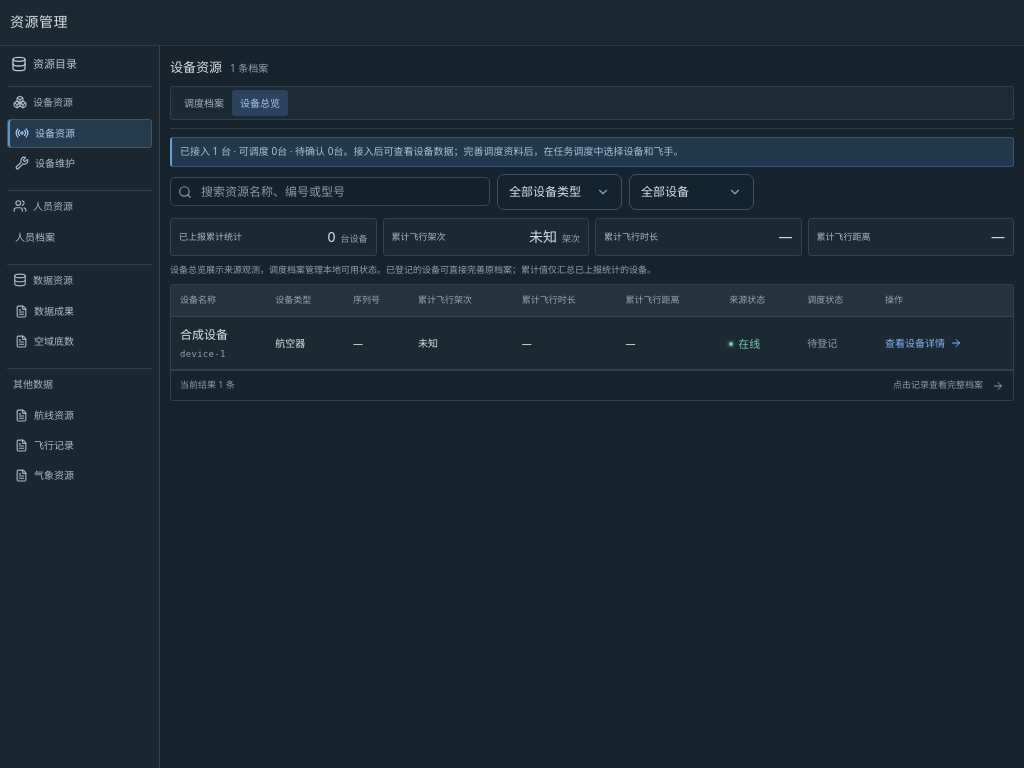
Test case: 资源目录按需请求 › 打开气象资源时读取机巢实时观测并显示遥测来源状态
Click the button "气象资源" at (80, 475), box [7, 461, 152, 490]
Wait 20 ms
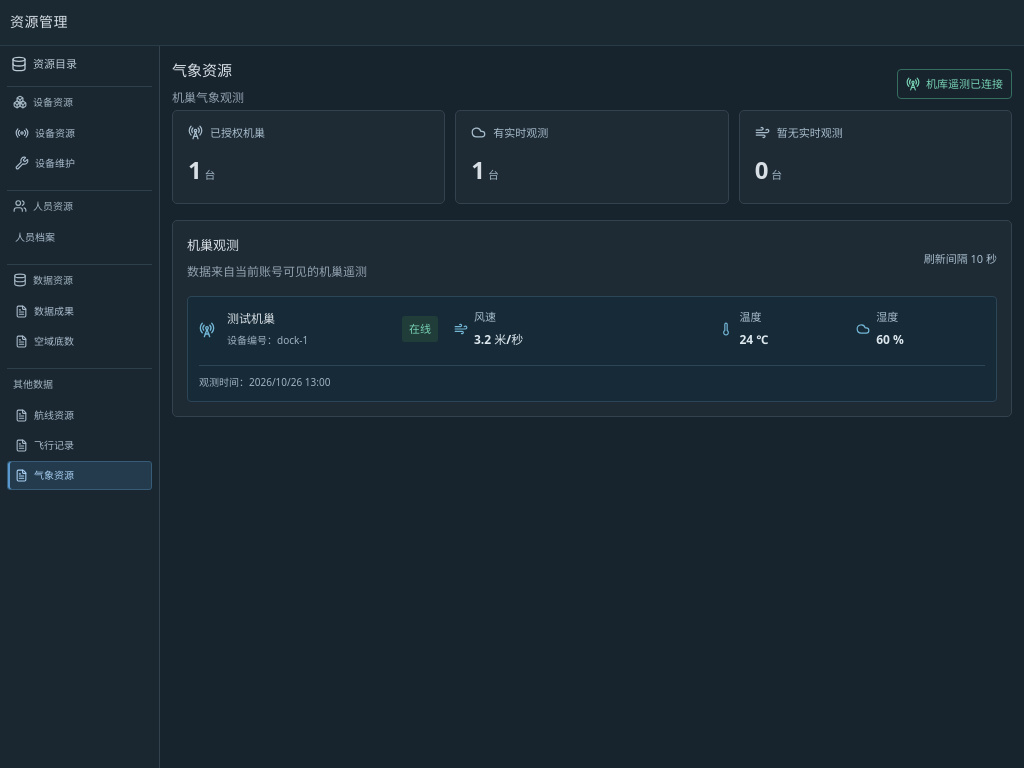
Now the element "气象资源" is shown
Now the text "机库遥测已连接" is shown, box [897, 69, 1012, 99]
Now the text "测试机巢" is shown, box [227, 310, 275, 327]
